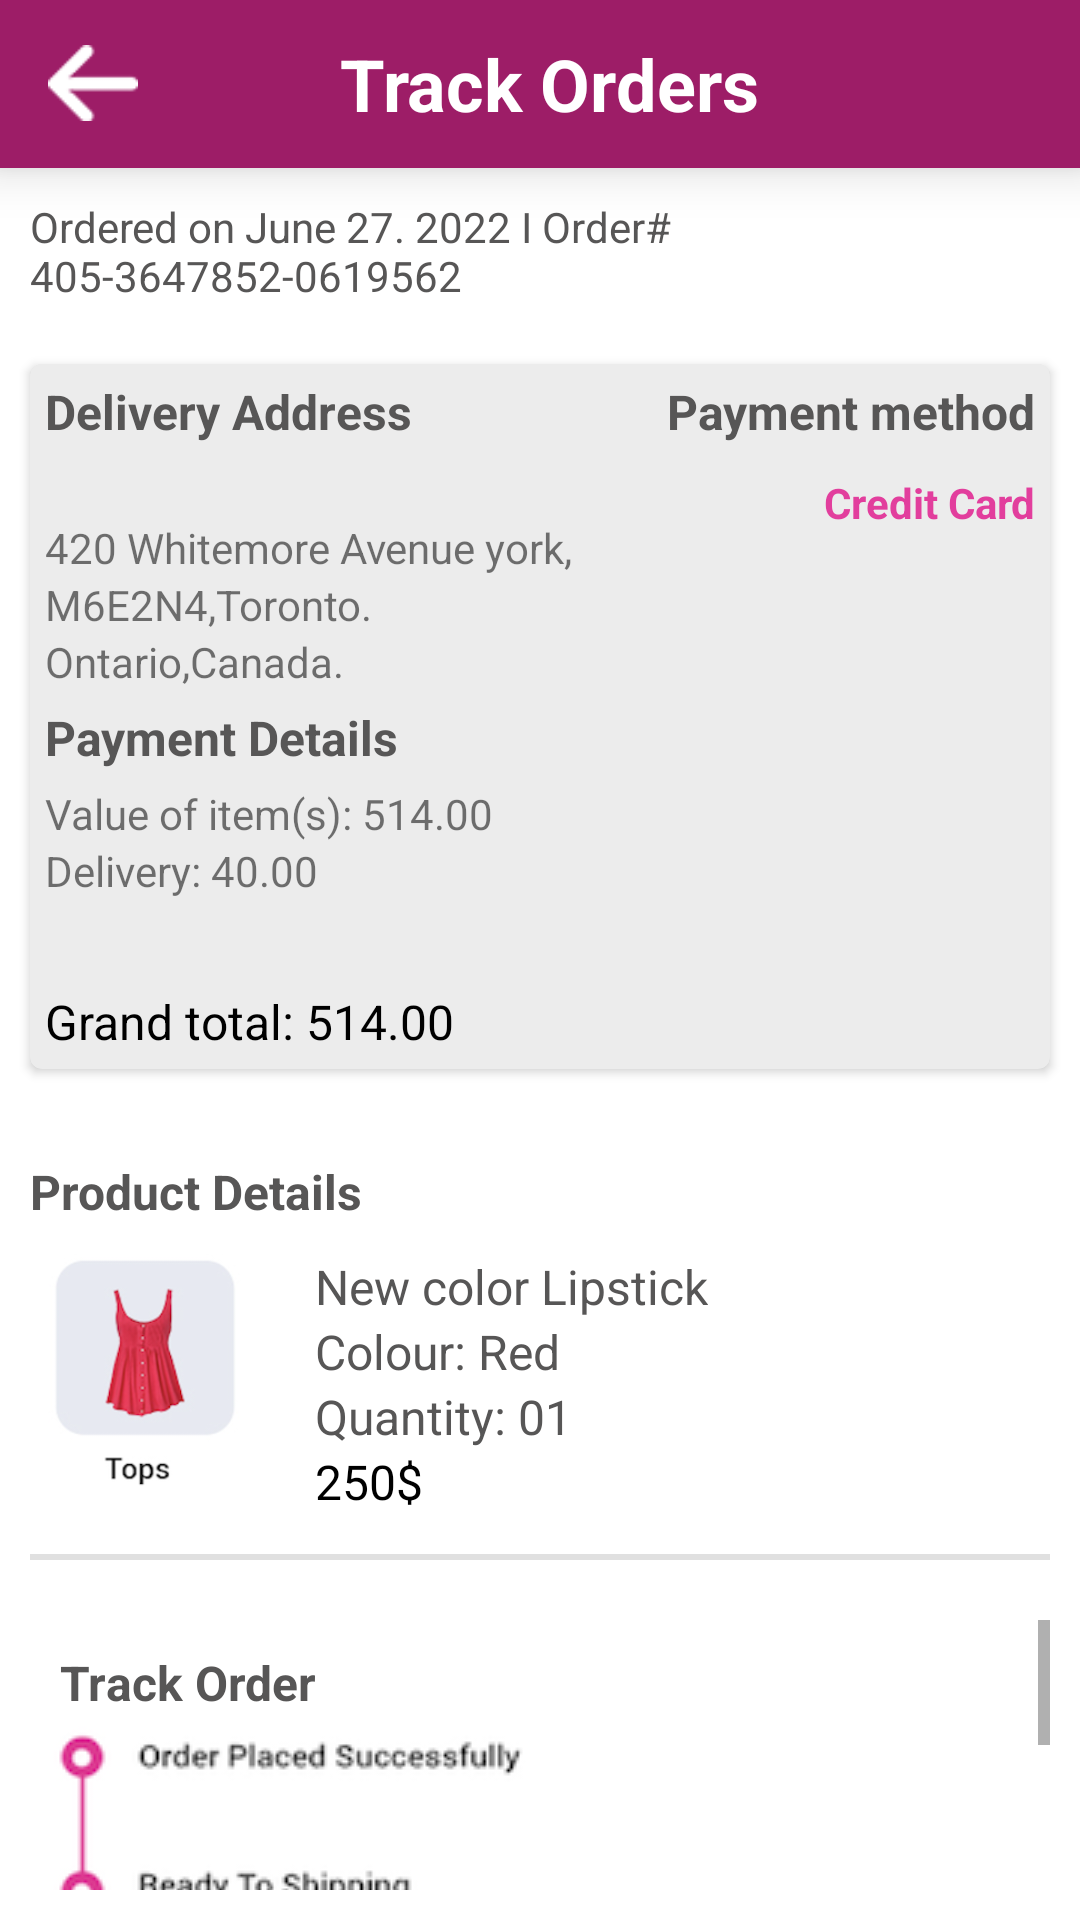

Icon bounding boxes for this 1080 × 1920 phone screenshot, format [x1, y1, x2, y2]:
back arrow three: [48, 45, 138, 121]
